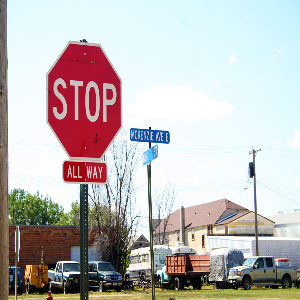STOP_SIGN: (46, 40, 122, 160)
